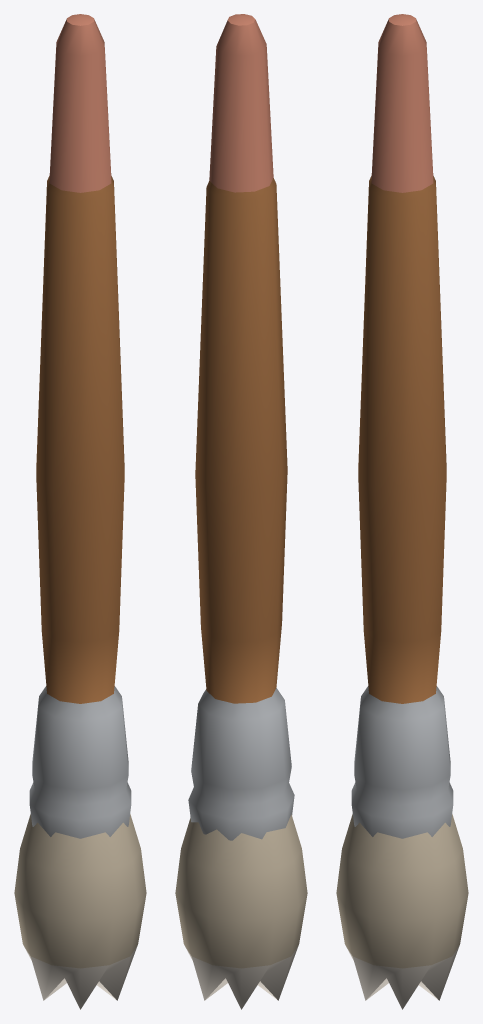
The model's file is pennellino.glb.
The picture shows the model from 3 angles, left to right: view 1: azimuth 90°, elevation 25°; view 2: azimuth 150°, elevation 25°; view 3: azimuth 270°, elevation 25°; orthographic projection.
Visible parts, largest first — view 1: manico_pennello, setole; view 2: manico_pennello, setole; view 3: manico_pennello, setole.
Boxes of the visible parts, x1,y1,x2,y2 form: manico_pennello: (29,14,131,838); setole: (14,814,146,1009); manico_pennello: (188,14,294,840); setole: (175,814,307,1009); manico_pennello: (351,14,453,838); setole: (336,814,468,1009).
Bounding box in the file's own units: 0.0188 × 0.153 × 0.0188.
